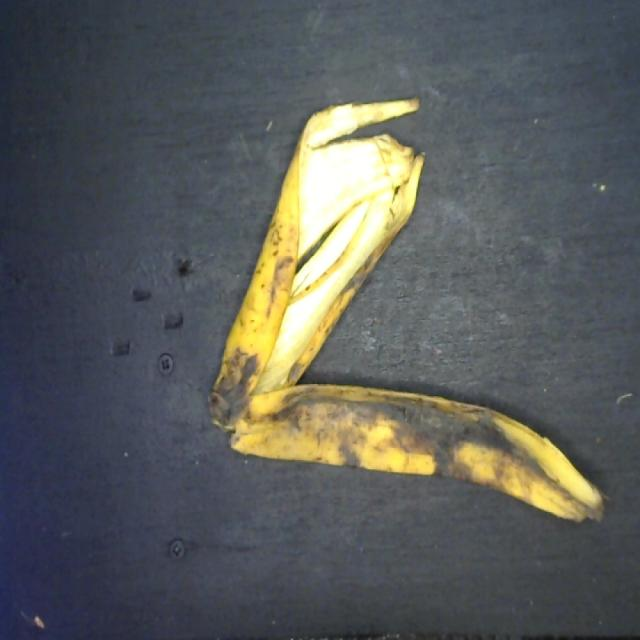biodegradable: (206, 96, 613, 530)
